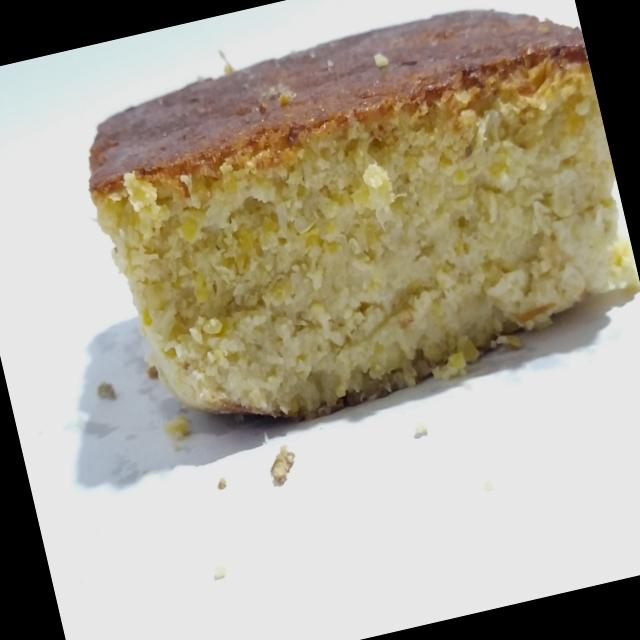Chipa_Guazu: (60, 0, 640, 449)
